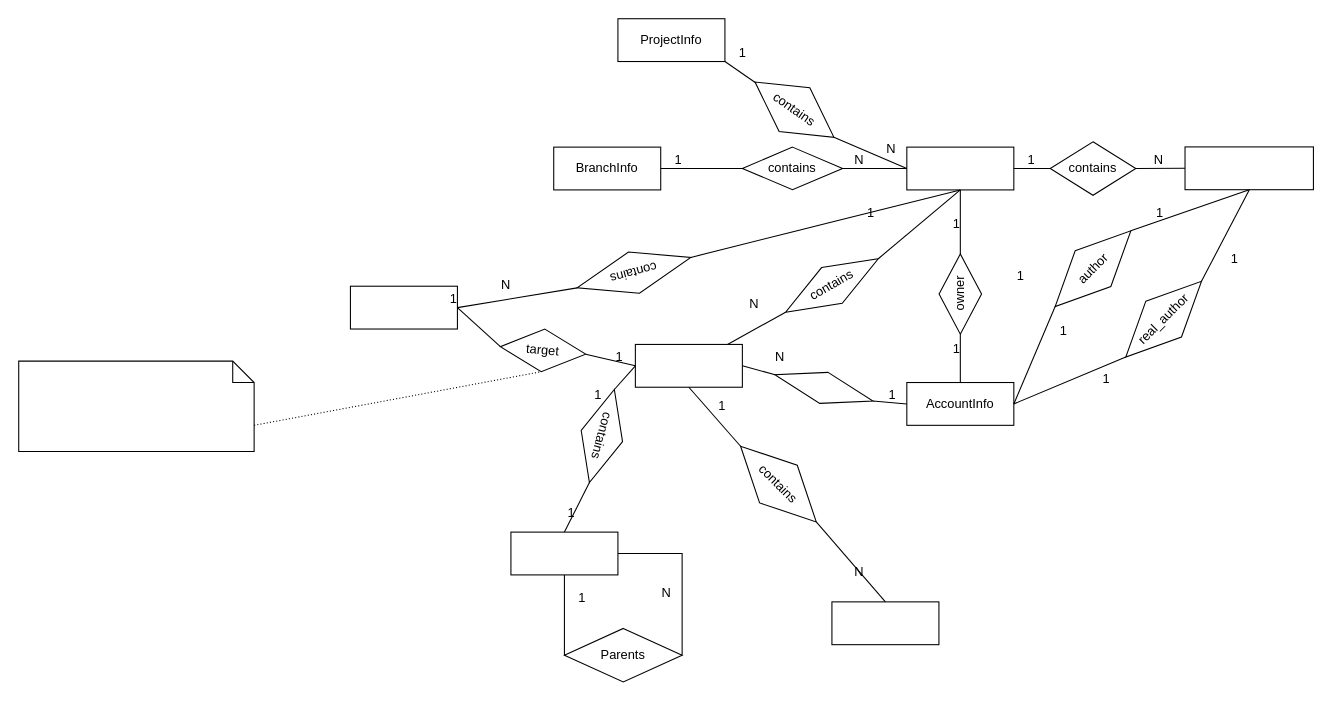
Some shapes in this 1332 by 701 pixel diagram are drawn without their labels. Each missing label, with the centre of its shape:
"ChangeInfo" belongs at point (960, 168).
"ChangeMessageInfo" belongs at point (1248, 168).
"CommentInfo" belongs at point (403, 307).
"CommitInfo" belongs at point (564, 553).
"FileInfo" belongs at point (885, 623).
"RevisionInfo" belongs at point (688, 365).
"uploader" belongs at point (823, 387).
"存在comment对应patch(Revision)错位的问题，估计和Patch的类型有关系" belongs at point (136, 405).
